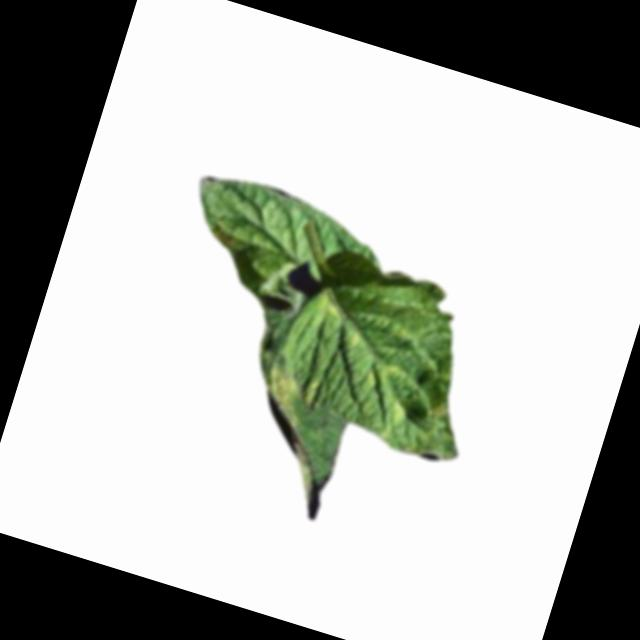Leaf_Mold: (266, 247, 506, 467), (254, 360, 325, 429)
